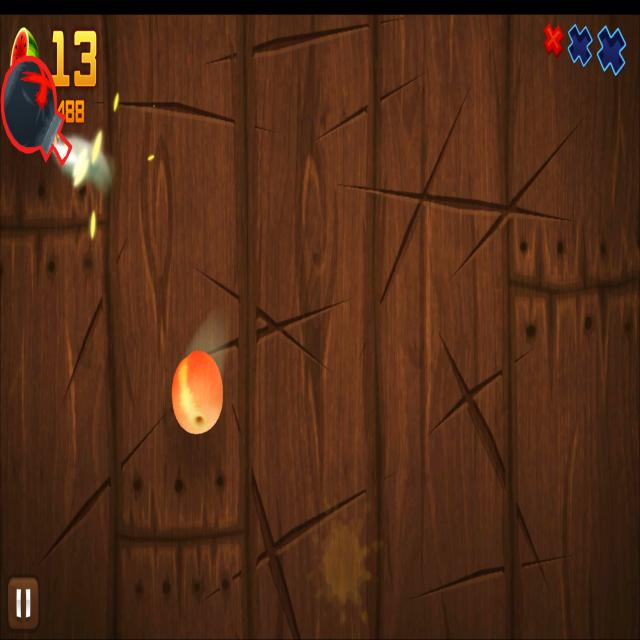bomb: (0, 56, 73, 167)
fruit: (171, 350, 224, 436)
